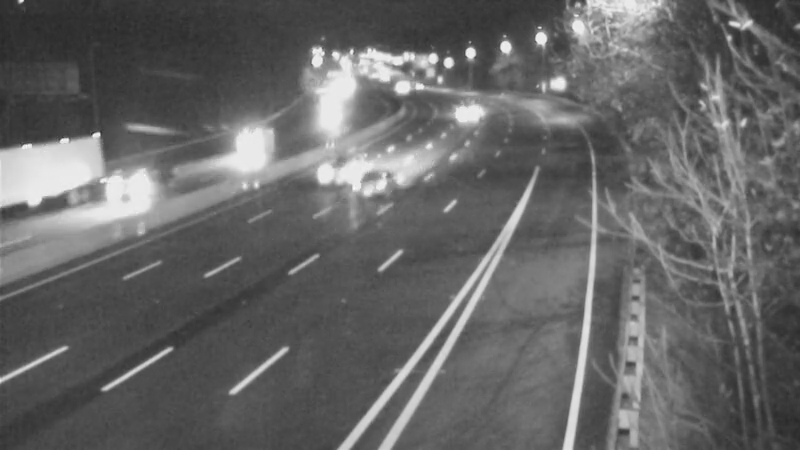vehicle: (305, 128, 385, 208), (337, 144, 417, 224), (78, 144, 158, 224), (1, 152, 75, 232), (377, 65, 427, 115), (437, 86, 487, 136), (224, 117, 274, 167)
